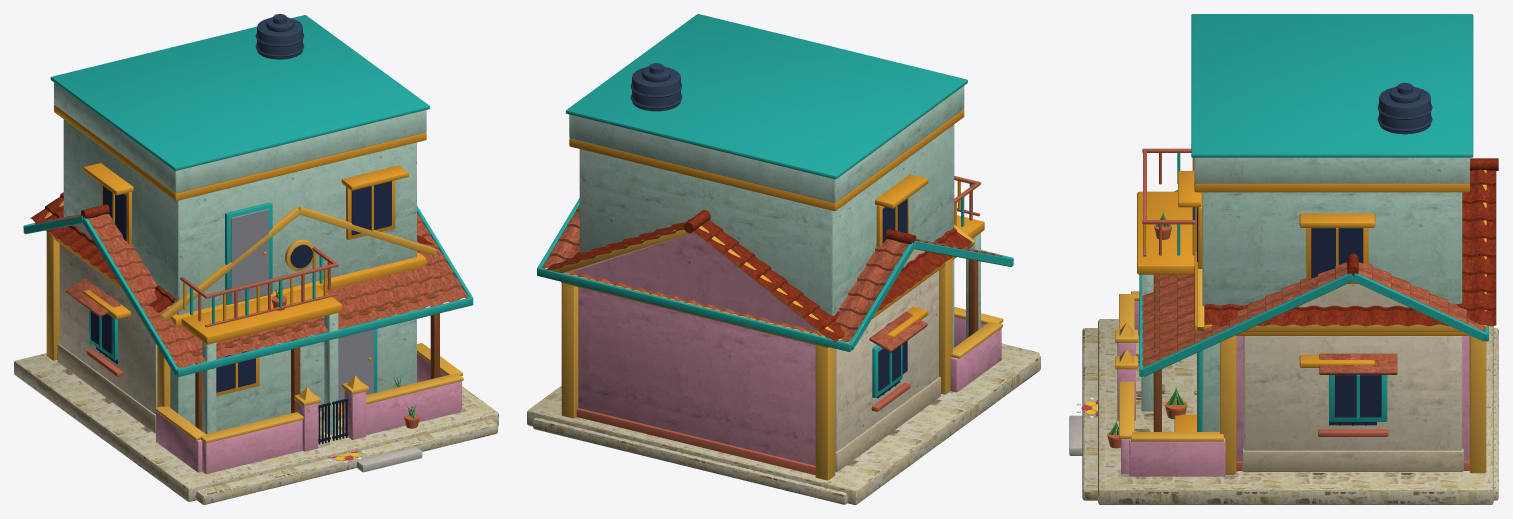
The model's file is houses.glb.
3 renders of one model, left to right at view 1: azimuth 30°, elevation 25°; view 2: azimuth 150°, elevation 25°; view 3: azimuth 270°, elevation 25°, orthographic. The views are drawn at different scales.
Parts seen in each view (by area): view 1: House_TwoStorey, House_Cottage, House_PinkGable; view 2: House_TwoStorey, House_PinkGable, House_Cottage; view 3: House_TwoStorey, House_Cottage, House_PinkGable.
Boxes of the visible parts, x1,y1,x2,y2 form: House_TwoStorey: (50,14,429,435); House_Cottage: (14,204,498,501); House_PinkGable: (30,192,497,504); House_TwoStorey: (565,14,984,373); House_PinkGable: (533,210,1039,504); House_Cottage: (527,198,1040,504); House_TwoStorey: (1137,14,1473,431); House_Cottage: (1069,189,1493,504); House_PinkGable: (1076,158,1498,500).
Size of the model in its own units: 7.8 by 7.93 by 8.26.
24 materials, 17 textured.
